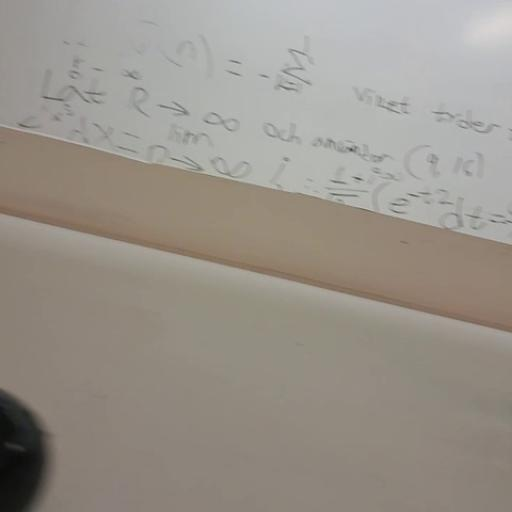dead: (0, 388, 55, 511)
